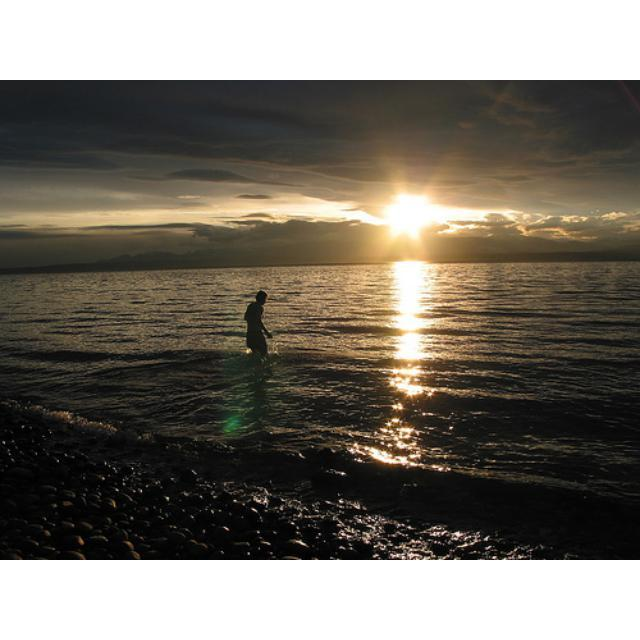human: (242, 291, 271, 360)
